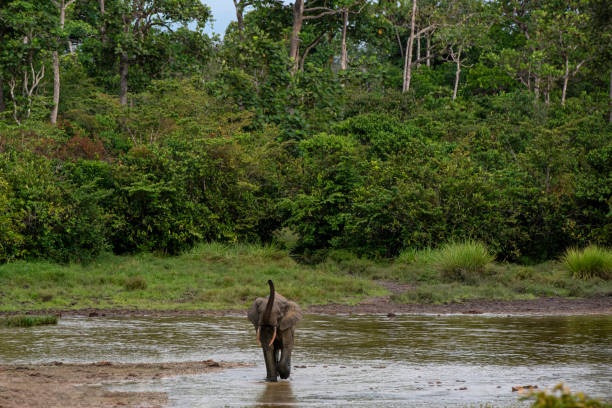africanelephant: (255, 297, 283, 344)
